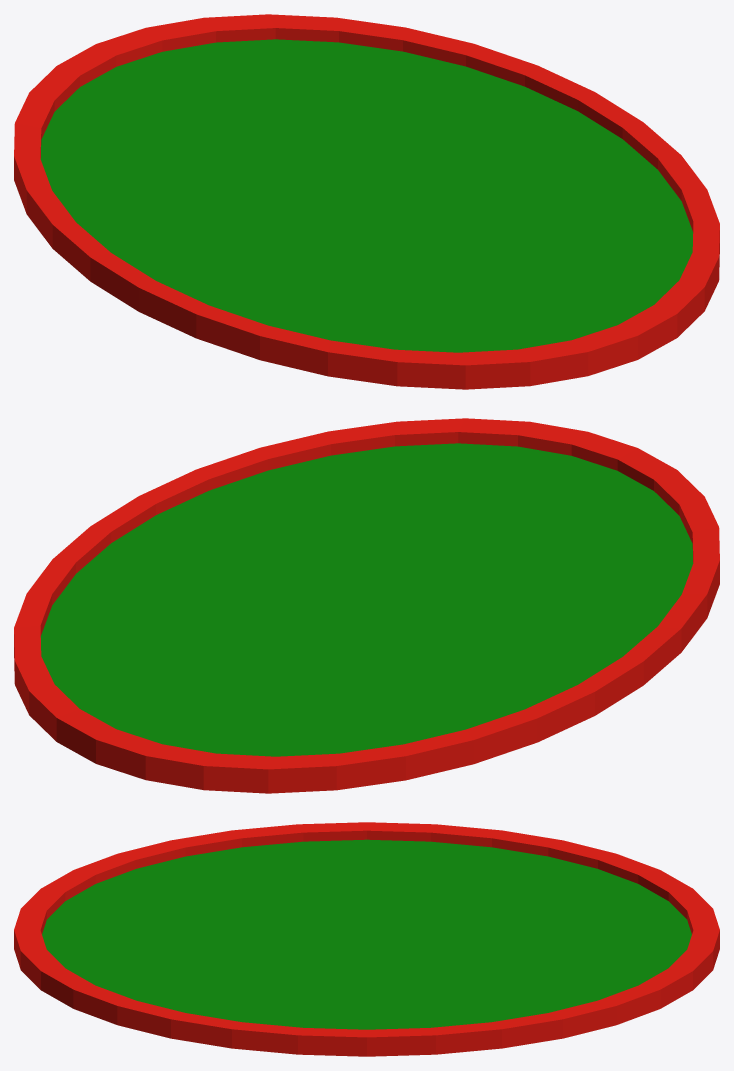
File: pokerTable.fbx
The picture shows the model from 3 angles, top to bottom: view 1: azimuth 30°, elevation 25°; view 2: azimuth 150°, elevation 25°; view 3: azimuth 270°, elevation 25°; orthographic projection. The views are drawn at different scales.
Visible parts, largest first — view 1: Circle; view 2: Circle; view 3: Circle.
Boxes of the visible parts, x1,y1,x2,y2 form: Circle: (14, 14, 719, 389); Circle: (14, 418, 719, 793); Circle: (14, 822, 719, 1056).
Size of the model in its own units: 2.16 by 0.0904 by 3.
